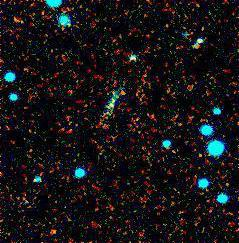star: (35, 223, 65, 243)
